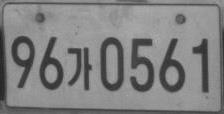0: (99, 36, 124, 90)
1: (189, 38, 215, 93)
5: (130, 38, 154, 92)
6: (158, 37, 185, 93), (38, 36, 64, 90)
9: (10, 35, 35, 88)
가: (66, 46, 92, 90)
